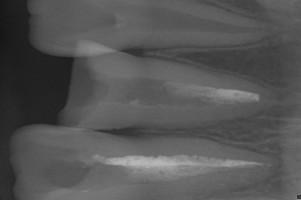Dental Caries: (28, 0, 290, 56)
